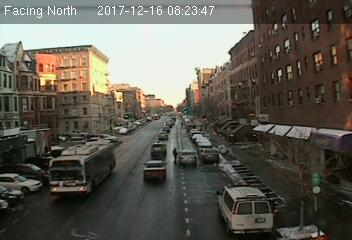bus: (45, 140, 116, 196)
car: (142, 159, 165, 180), (178, 151, 197, 166), (200, 147, 219, 162), (150, 141, 167, 156)
police: (214, 181, 272, 233)
